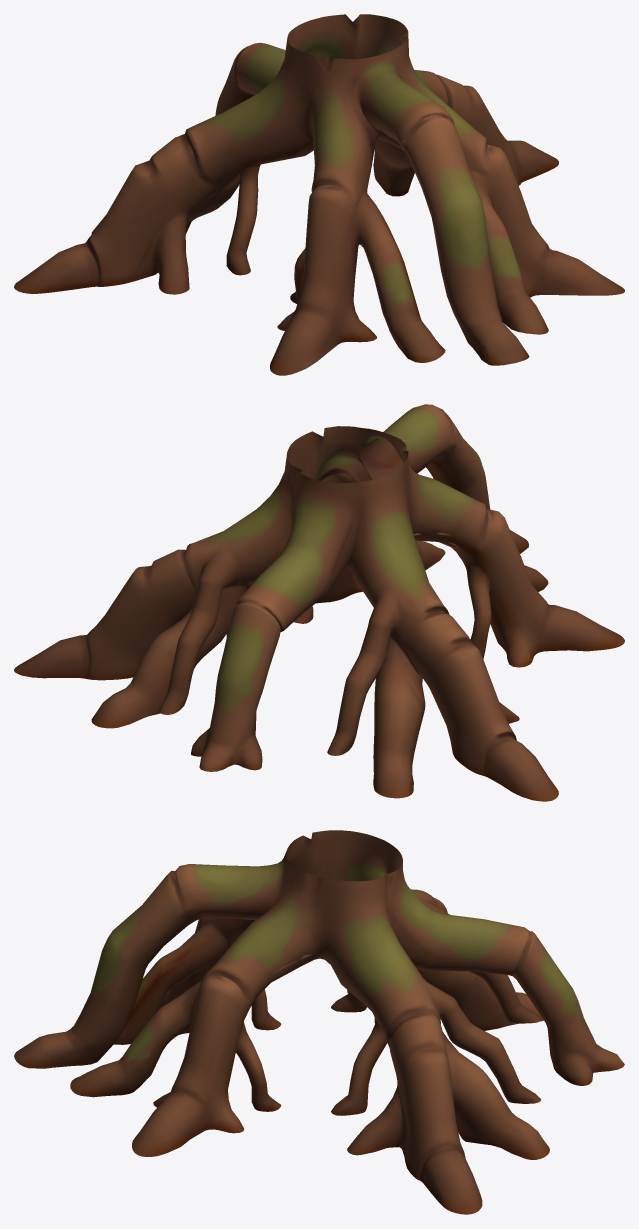
The model's file is roots2.fbx.
3 views of the same model, one above another, from view 1: azimuth 30°, elevation 25°; view 2: azimuth 150°, elevation 25°; view 3: azimuth 270°, elevation 25° (orthographic).
Parts seen in each view (by area): view 1: tripo_52b18299_af10_458e_b850_4fe0ffbf0837; view 2: tripo_52b18299_af10_458e_b850_4fe0ffbf0837; view 3: tripo_52b18299_af10_458e_b850_4fe0ffbf0837.
Part boxes in pixels (x1=…): tripo_52b18299_af10_458e_b850_4fe0ffbf0837: x1=14, y1=14, x2=624, y2=375; tripo_52b18299_af10_458e_b850_4fe0ffbf0837: x1=14, y1=404, x2=624, y2=801; tripo_52b18299_af10_458e_b850_4fe0ffbf0837: x1=14, y1=830, x2=624, y2=1214.
Size of the model in its own units: 0.9995 by 0.4185 by 0.9985.
1 material, 1 textured.
